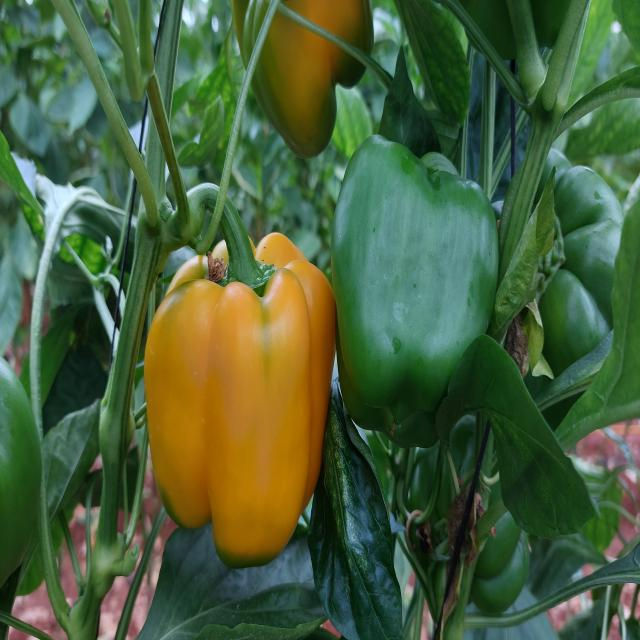Green--Not-ready-to-harvest: (342, 120, 520, 452)
GreenishYellow--Can-be-Harvested: (126, 204, 352, 551)
